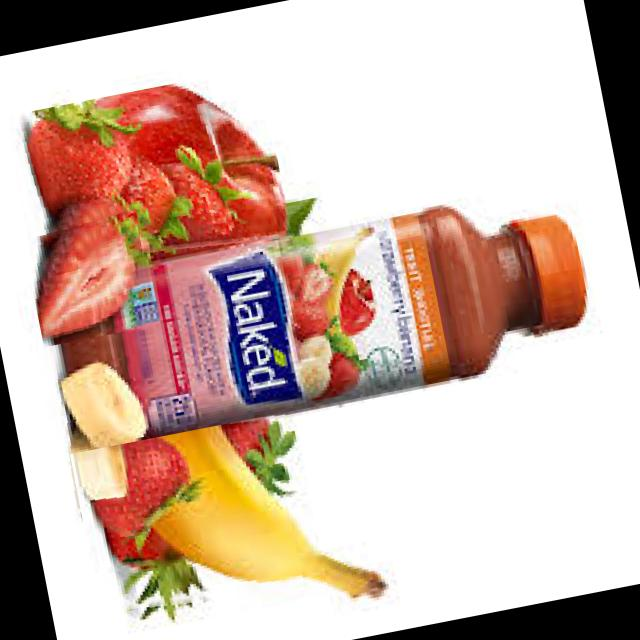Organic: (0, 67, 292, 290), (69, 411, 324, 632), (36, 349, 175, 528), (21, 210, 158, 348), (296, 542, 402, 610)
